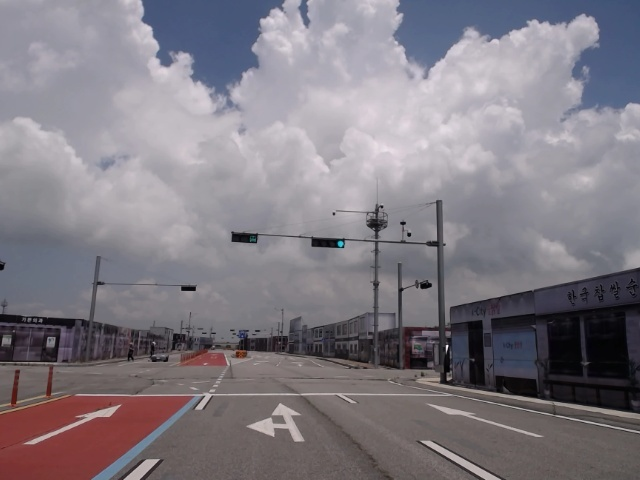straight_green_4: (309, 238, 344, 250)
